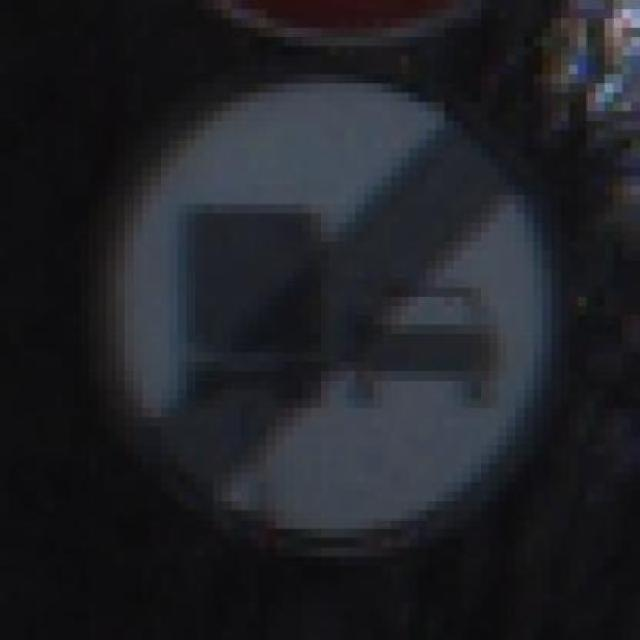Overtaking by trucks is prohibited: (53, 64, 596, 576)
